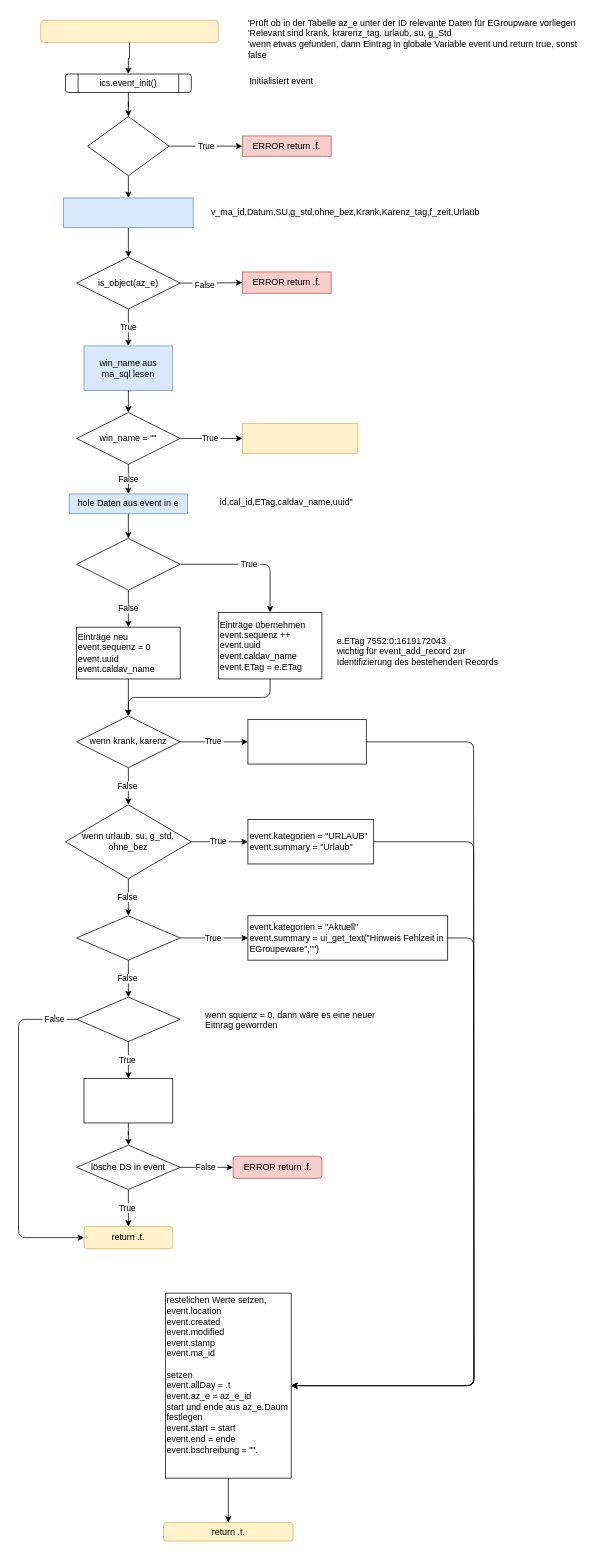
Image size: 592x1554. Some labels were removed from this diagram. Each missing label, with the centre of its shape:
az_e_get as l( az_e_id as n): pixel 129 31
az_e_id <= 0: pixel 128 146
event.kategorien = "KRANK" event.summary = "Krank": pixel 306 741
event.squenz > 0: pixel 128 1019
hole Daten aus az_e in az_e: pixel 128 212
is_object( e ): pixel 128 564
kein Fehler, aber dann nicht notwendig, return .f.: pixel 300 438
lösche ics ics.ics_delete(): pixel 128 1100
wenn Fehlzeit: pixel 128 937
